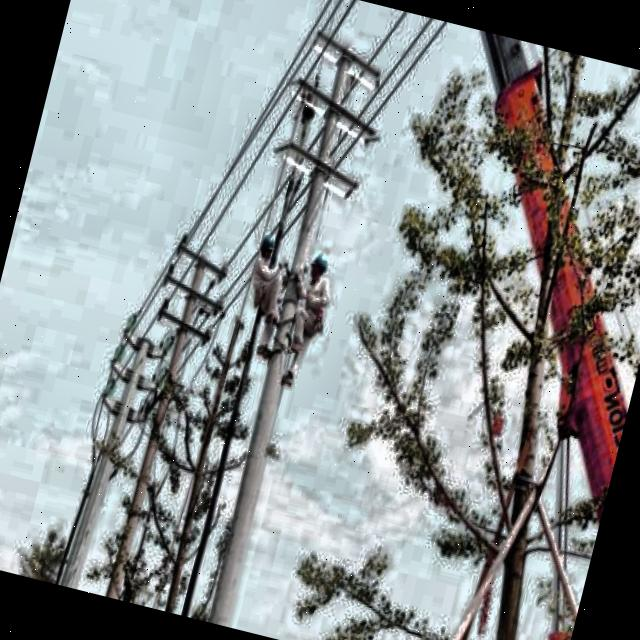helmet: (252, 227, 282, 267), (306, 247, 333, 284)
